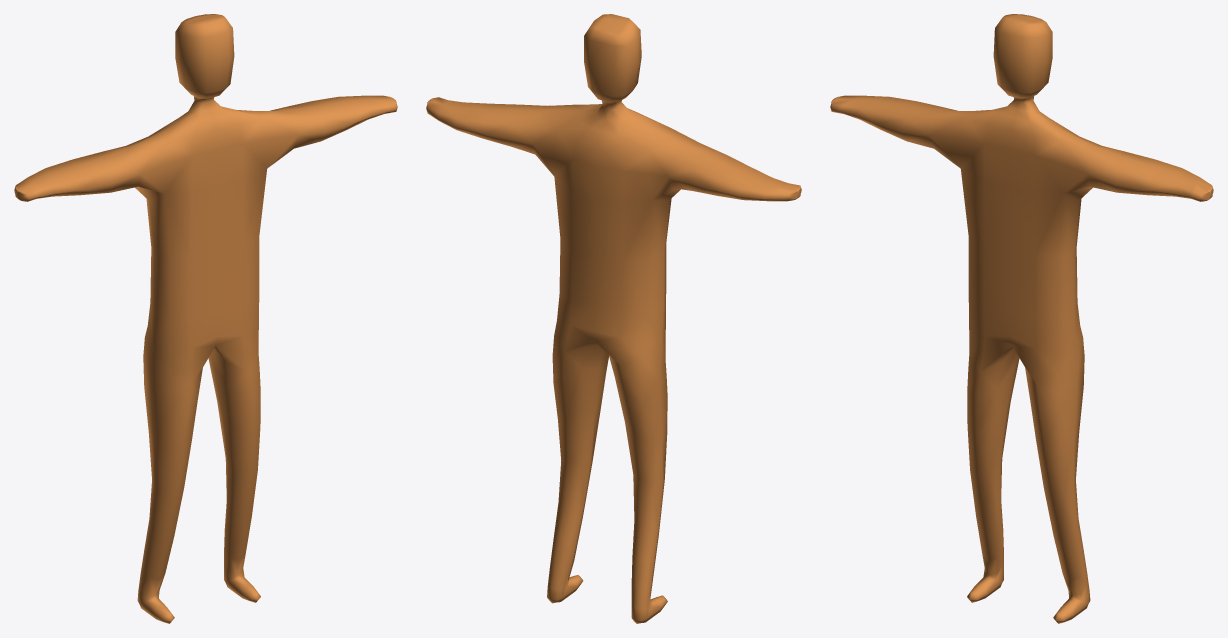
The model's file is human.fbx.
3 renders of one model, left to right at view 1: azimuth 30°, elevation 25°; view 2: azimuth 150°, elevation 25°; view 3: azimuth 330°, elevation 25°, orthographic. The views are drawn at different scales.
Parts seen in each view (by area): view 1: Box001; view 2: Box001; view 3: Box001.
Boxes of the visible parts, x1,y1,x2,y2 form: Box001: (14,14,397,623); Box001: (426,14,801,623); Box001: (830,14,1213,623).
Bounding box in the file's own units: 197 × 296 × 32.14.
